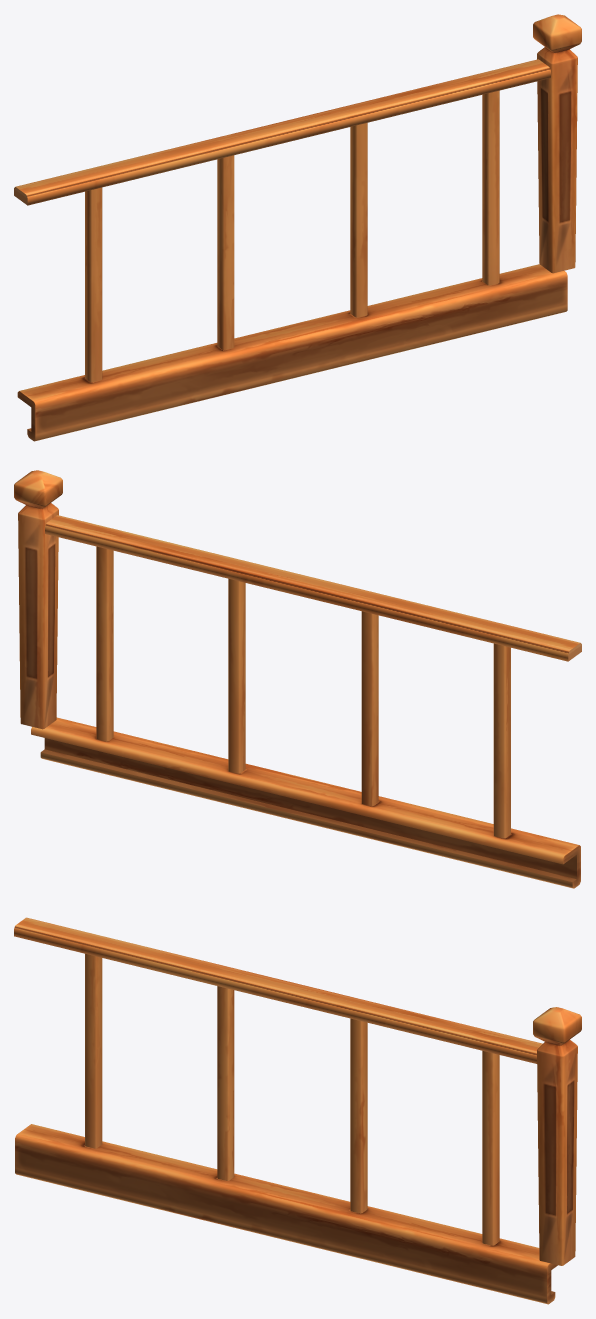
File: PropStairs01PTypeA2.FBX
3 renders of one model, top to bottom at view 1: azimuth 30°, elevation 25°; view 2: azimuth 150°, elevation 25°; view 3: azimuth 330°, elevation 25°, orthographic.
Parts seen in each view (by area): view 1: PropStairs01PTypeA2; view 2: PropStairs01PTypeA2; view 3: PropStairs01PTypeA2.
Part boxes in pixels (x1=…): PropStairs01PTypeA2: x1=14, y1=14, x2=581, y2=441; PropStairs01PTypeA2: x1=14, y1=470, x2=581, y2=888; PropStairs01PTypeA2: x1=14, y1=917, x2=581, y2=1304.
Size of what is drawn, in the model's own units: 2.34 by 1.16 by 0.1429.
